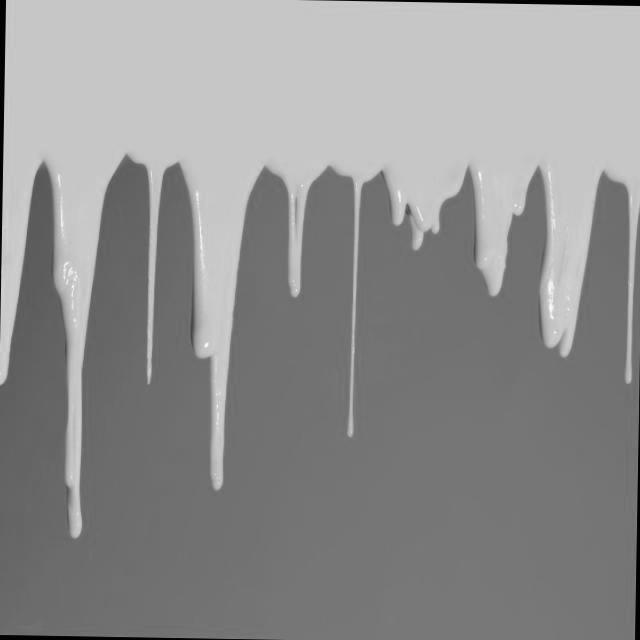paint drips: (0, 12, 214, 562), (168, 44, 396, 558), (335, 87, 534, 466), (516, 142, 640, 497)
